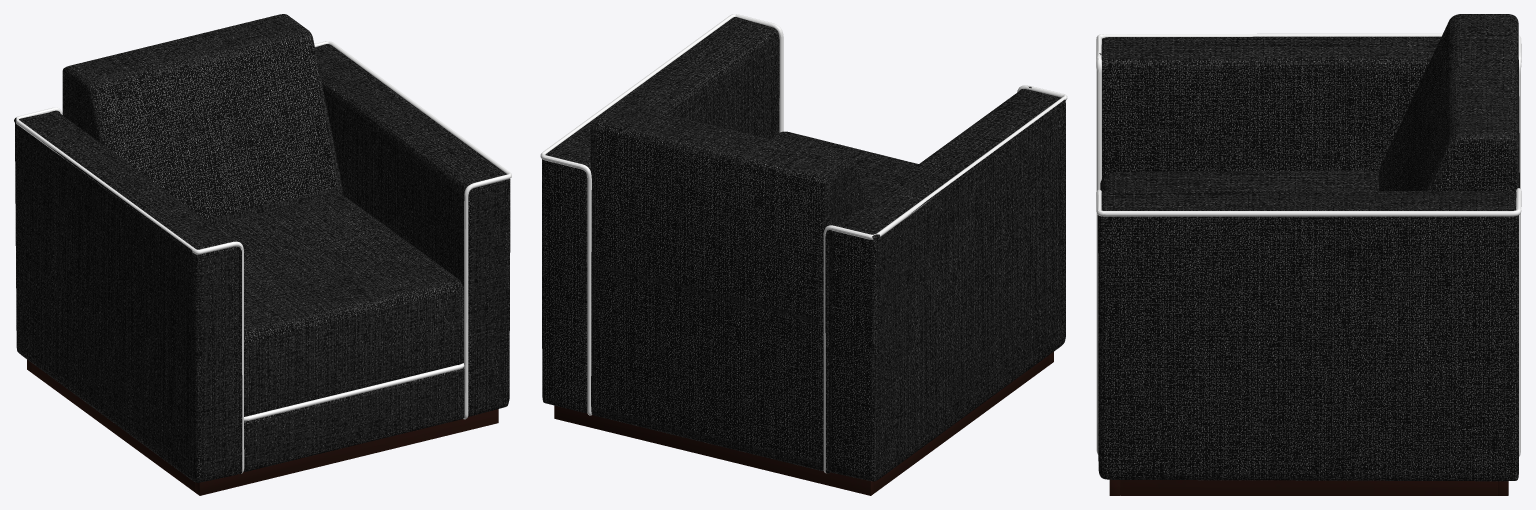
3 renders of one model, left to right at view 1: azimuth 30°, elevation 25°; view 2: azimuth 150°, elevation 25°; view 3: azimuth 270°, elevation 25°, orthographic. The views are drawn at different scales.
Parts seen in each view (by area): view 1: C-skp194A; view 2: C-skp194A; view 3: C-skp194A.
Boxes of the visible parts, x1,y1,x2,y2 form: C-skp194A: (14,14,511,495); C-skp194A: (540,14,1067,495); C-skp194A: (1096,14,1521,495).
Size of the model in its own units: 0.8 by 0.7 by 0.8.
Materials: 3 (2 with a texture image).
